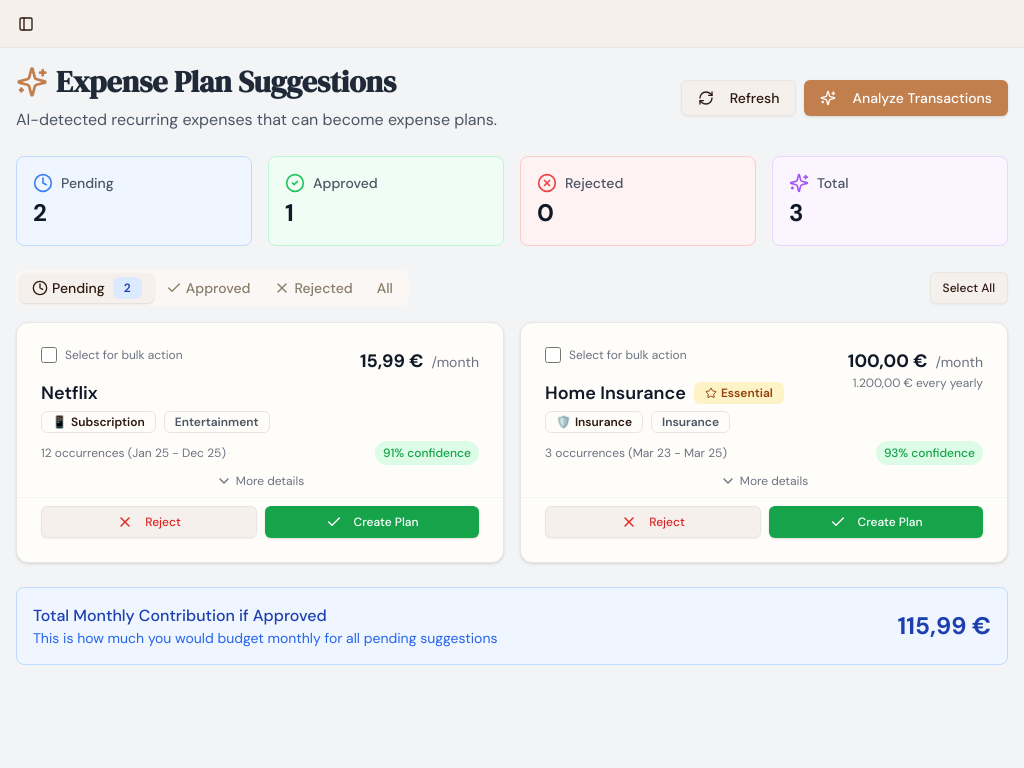
Test: Expense Plan Suggestions › Bulk Actions › should deselect all when clicking Deselect All
This screenshot has width=1024, height=768.
Note: Select all first
Click the button "Select All".
click(969, 288)  # box [930, 272, 1008, 304]
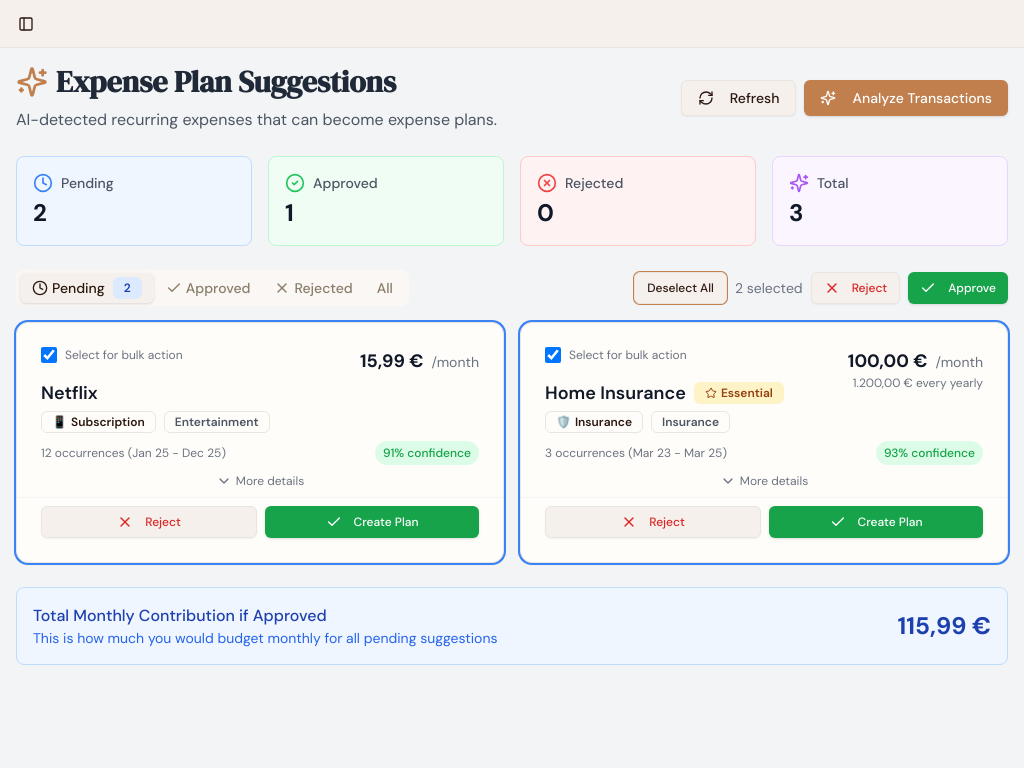
Check: the text "2 selected" is shown, box [735, 278, 803, 298]
Note: Now deselect
Click the button "Deselect All".
click(681, 288)  # box [634, 272, 727, 304]
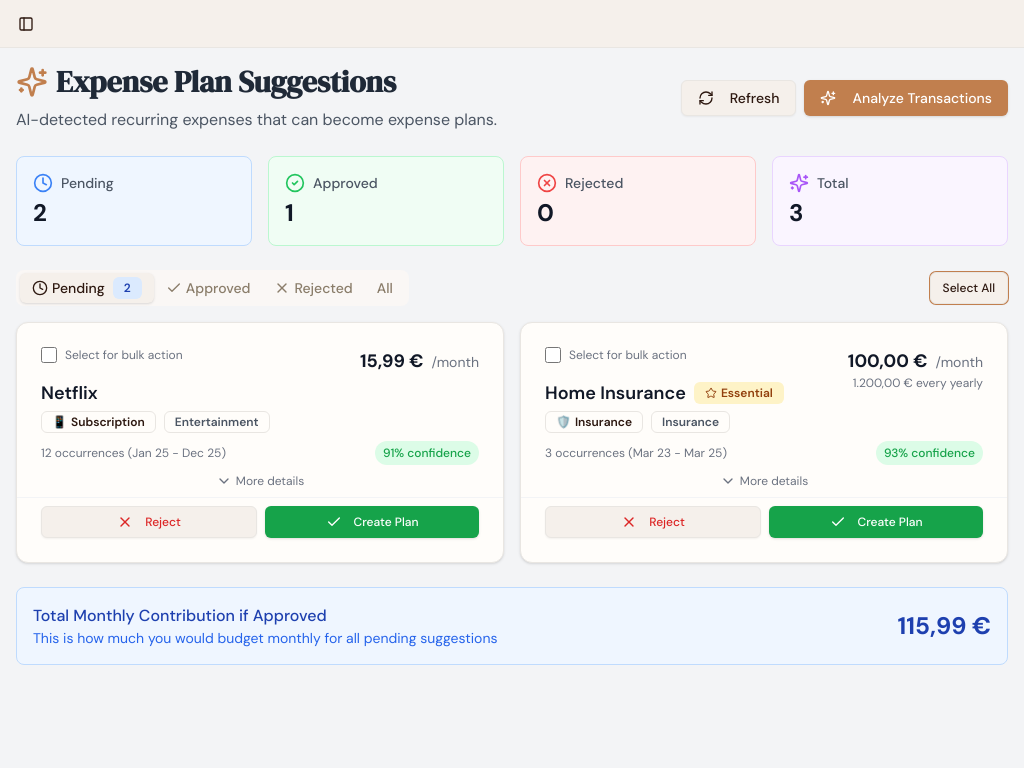
Check: the text "2 selected" is gone
